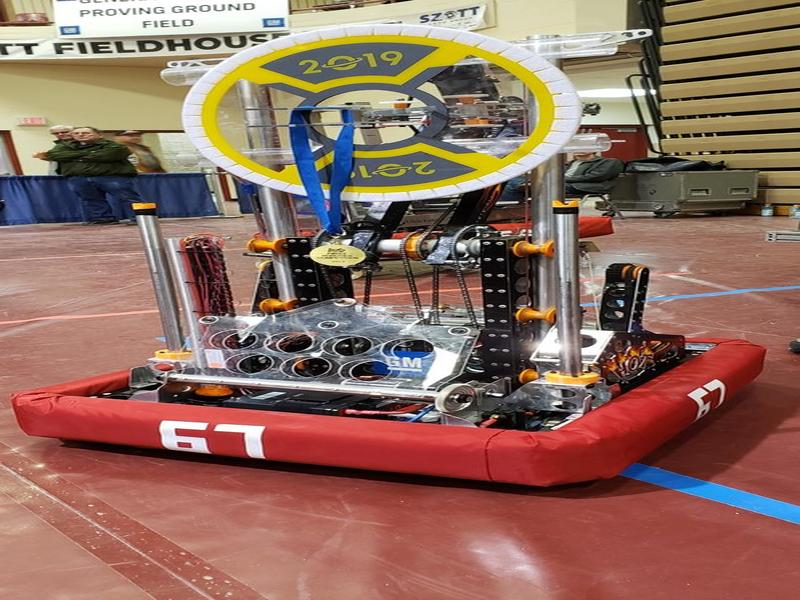robot: (14, 26, 766, 490)
